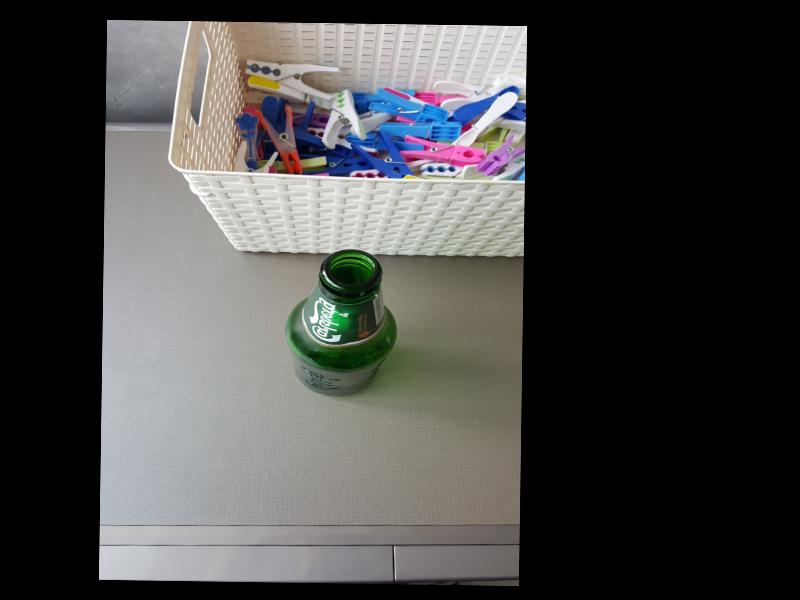Beer: (283, 249, 397, 398)
